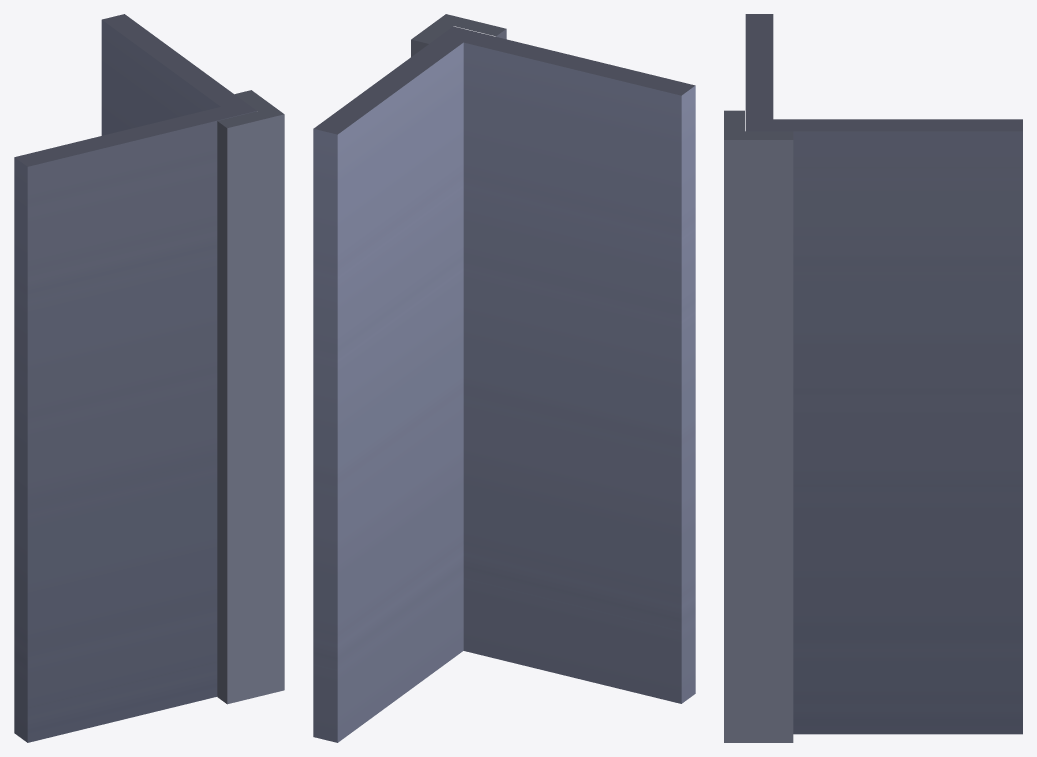
File: building_wall_corner_column_s.glb
3 renders of one model, left to right at view 1: azimuth 30°, elevation 25°; view 2: azimuth 150°, elevation 25°; view 3: azimuth 270°, elevation 25°, orthographic. The views are drawn at different scales.
Parts seen in each view (by area): view 1: wall-corner-column-small; view 2: wall-corner-column-small; view 3: wall-corner-column-small.
Boxes of the visible parts, x1,y1,x2,y2 form: wall-corner-column-small: (14, 14, 284, 742); wall-corner-column-small: (313, 14, 695, 742); wall-corner-column-small: (724, 14, 1022, 742).
Bounding box in the file's own units: 1.07 × 2.4 × 1.08.
Materials: 1 (1 with a texture image).
